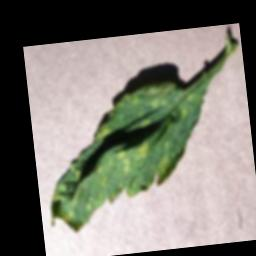Leaf_Mold: (37, 77, 216, 236)
